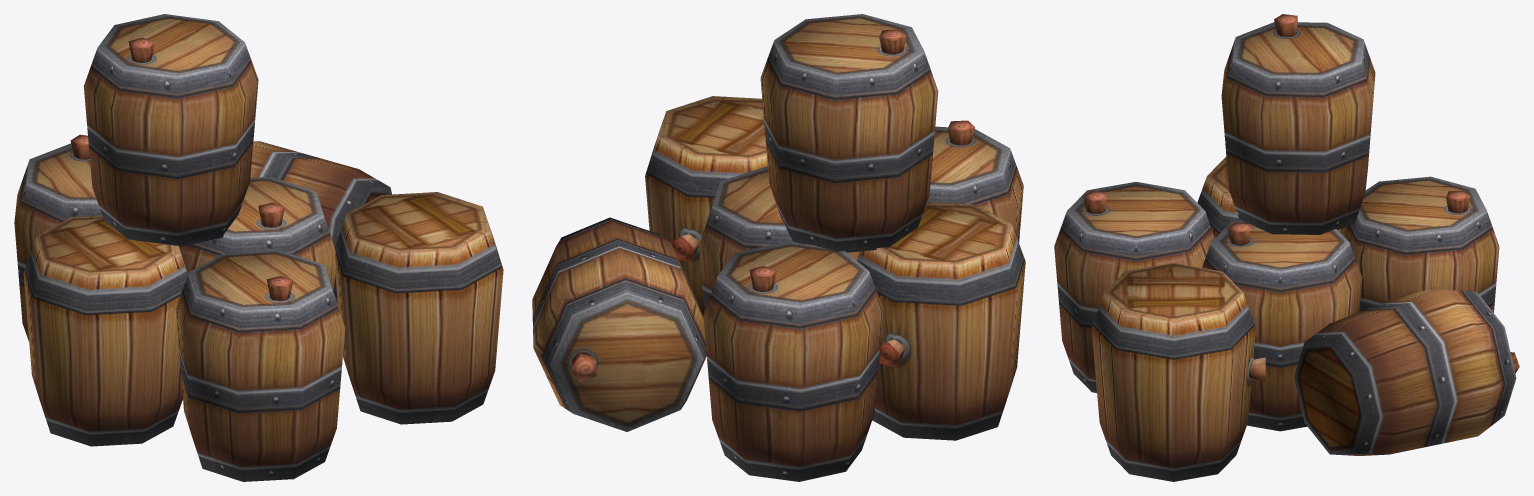
The model's file is obj_macoprdr03.glb.
3 renders of one model, left to right at view 1: azimuth 30°, elevation 25°; view 2: azimuth 150°, elevation 25°; view 3: azimuth 270°, elevation 25°, orthographic. The views are drawn at different scales.
Parts seen in each view (by area): view 1: part_0; view 2: part_0; view 3: part_0.
Boxes of the visible parts, <box> form: part_0: <box>14,14,503,481</box>; part_0: <box>532,14,1025,481</box>; part_0: <box>1054,14,1519,481</box>.
Bounding box in the file's own units: 2.5 × 2.09 × 2.61.
2 materials, 2 textured.
